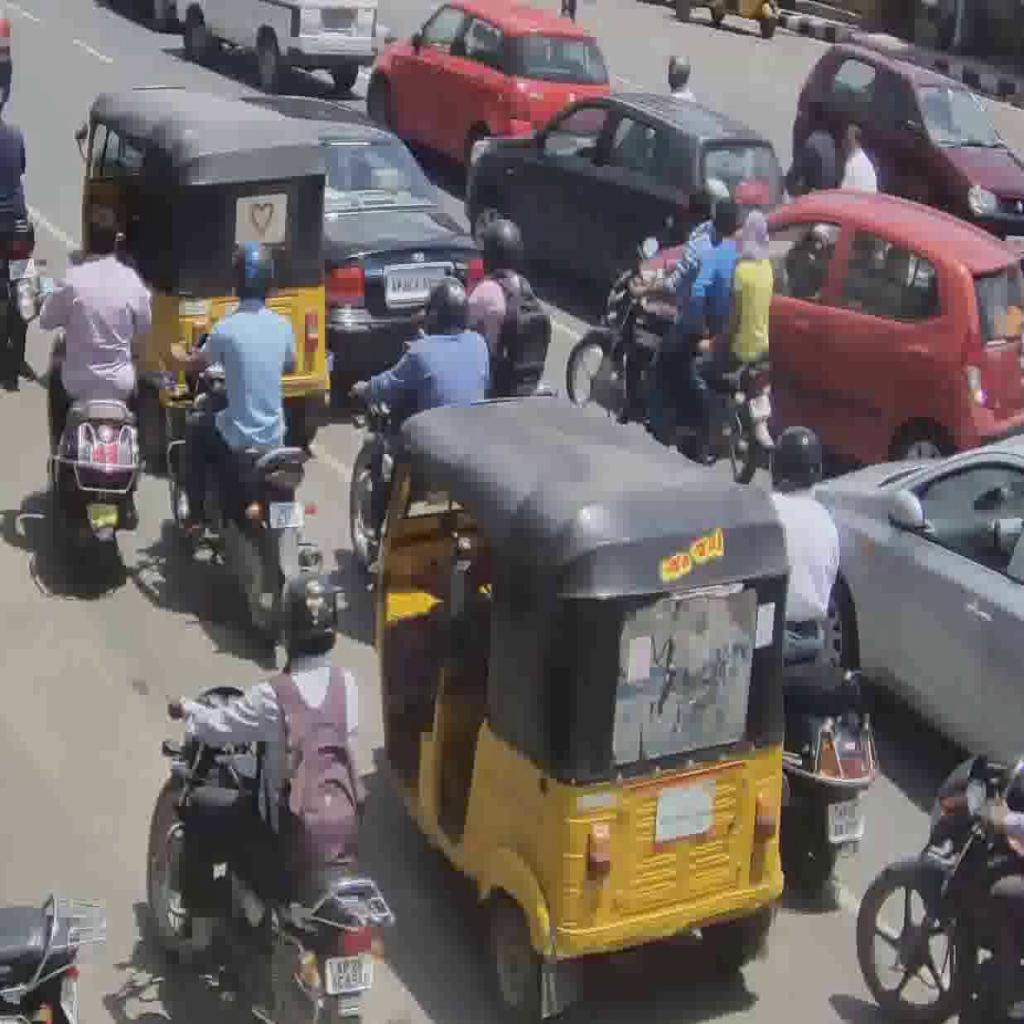helmet: (143, 679, 396, 1024), (166, 325, 325, 652), (565, 264, 776, 484), (855, 752, 1024, 1024), (38, 282, 141, 588), (782, 647, 879, 898)
